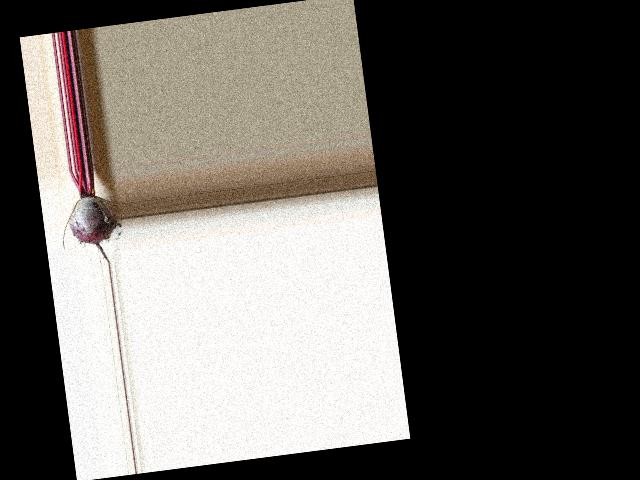beet: (54, 167, 121, 268)
